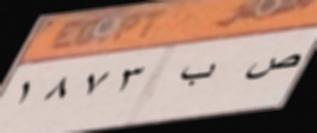1: (14, 78, 33, 109)
3: (119, 64, 147, 96)
7: (83, 67, 110, 97)
8: (42, 76, 70, 104)
baa: (178, 61, 218, 89)
saad: (242, 51, 301, 83)
